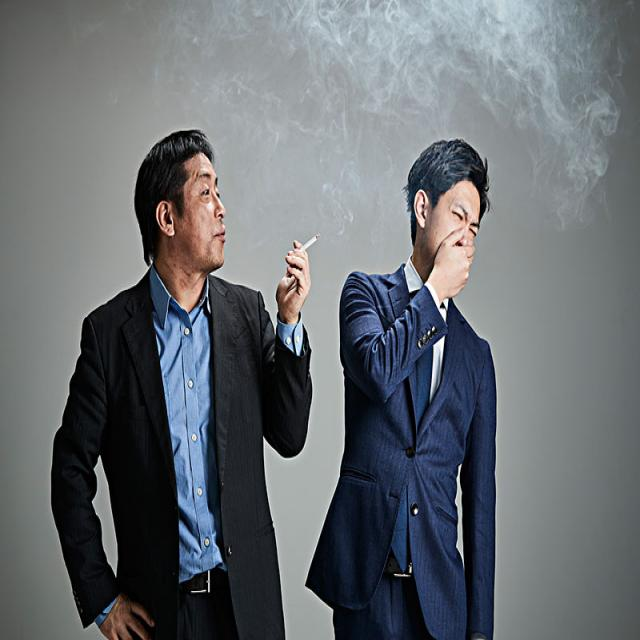smoking: (290, 232, 320, 260)
